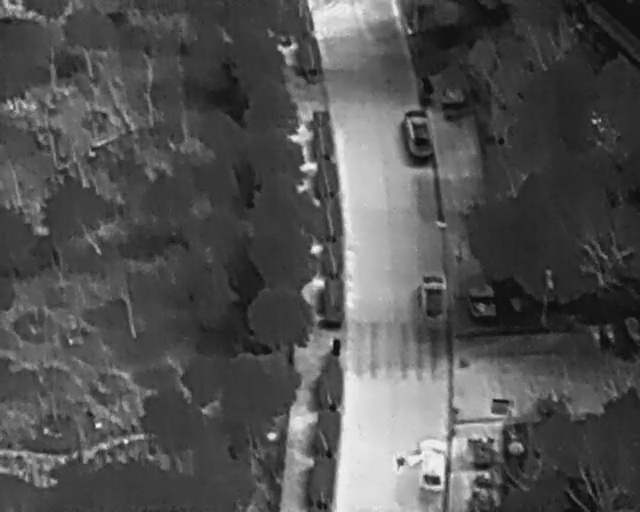Car: (400, 108, 439, 169), (416, 270, 451, 330), (418, 437, 447, 493)
Person: (396, 451, 406, 472)
